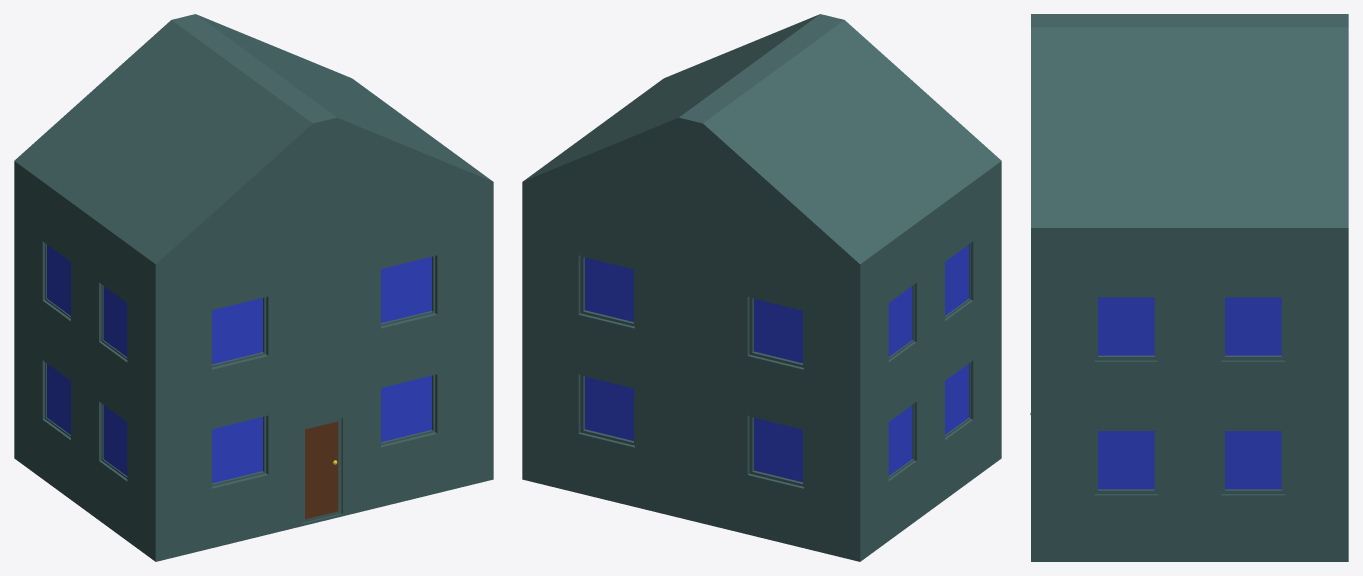
Rendered from House1.fbx.
3 views of the same model, side by side, from view 1: azimuth 30°, elevation 25°; view 2: azimuth 150°, elevation 25°; view 3: azimuth 270°, elevation 25° (orthographic). The views are drawn at different scales.
Visible parts, largest first — view 1: House1.001; view 2: House1.001; view 3: House1.001.
Part boxes in pixels (bbox=[...]): House1.001: bbox=[14, 14, 493, 561]; House1.001: bbox=[522, 14, 1001, 561]; House1.001: bbox=[1030, 14, 1348, 561].
Size of the model in its own units: 2853 by 3228 by 2074.
